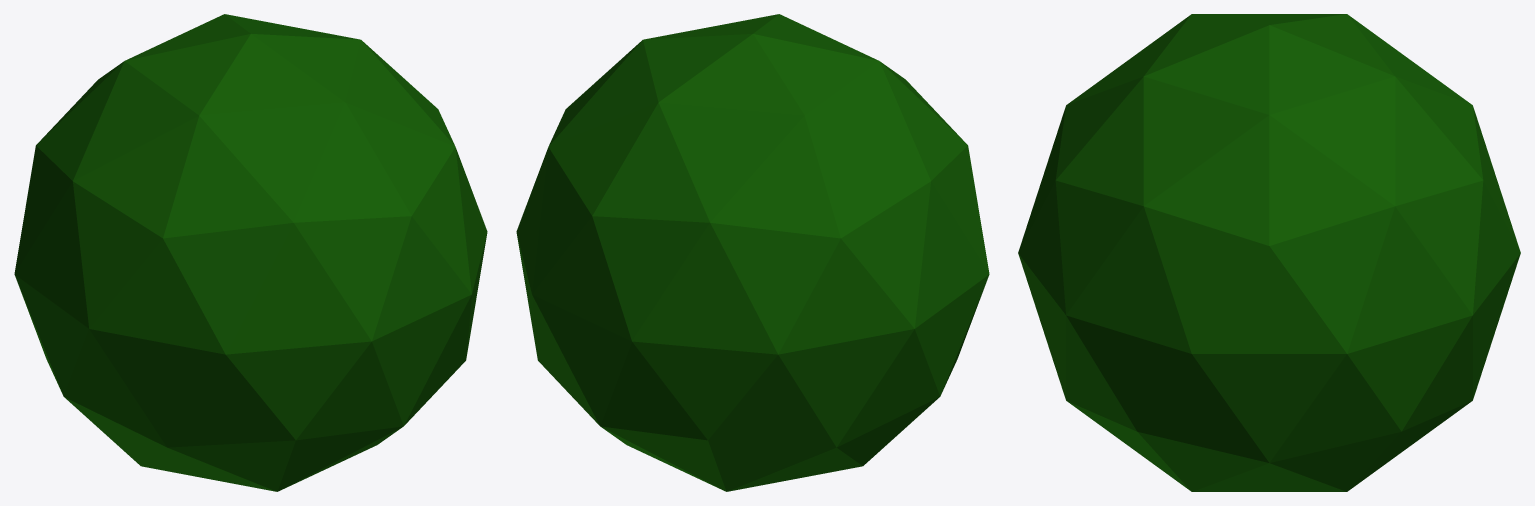
The model's file is Bush.fbx.
The picture shows the model from 3 angles, left to right: view 1: azimuth 30°, elevation 25°; view 2: azimuth 150°, elevation 25°; view 3: azimuth 270°, elevation 25°; orthographic projection. The views are drawn at different scales.
Parts seen in each view (by area): view 1: Cylinder.001; view 2: Cylinder.001; view 3: Cylinder.001.
Boxes of the visible parts, x1,y1,x2,y2 form: Cylinder.001: (14,14,487,491); Cylinder.001: (516,14,989,491); Cylinder.001: (1018,14,1520,491).
Bounding box in the file's own units: 1.33 × 1.29 × 1.4.
